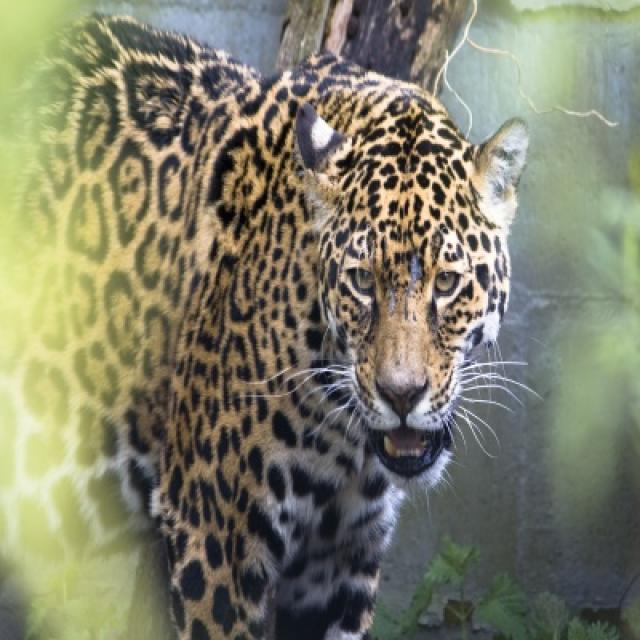Jaguar: (0, 6, 528, 638)
